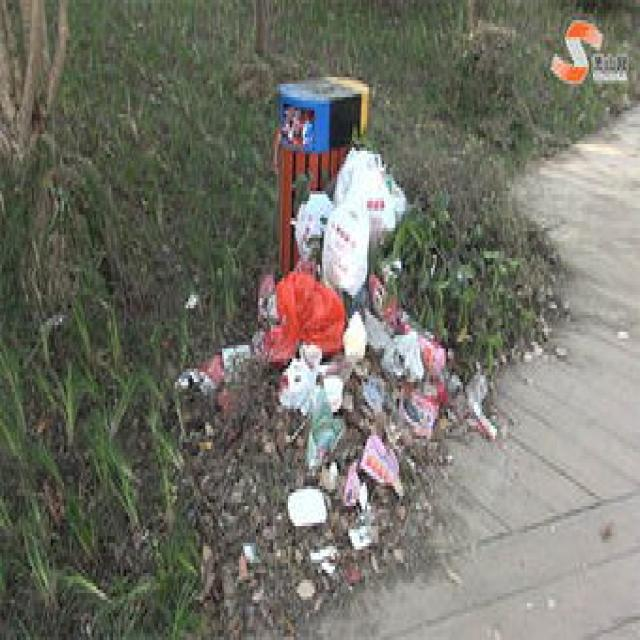garbage: (171, 141, 495, 600)
overflow: (271, 70, 369, 268)
